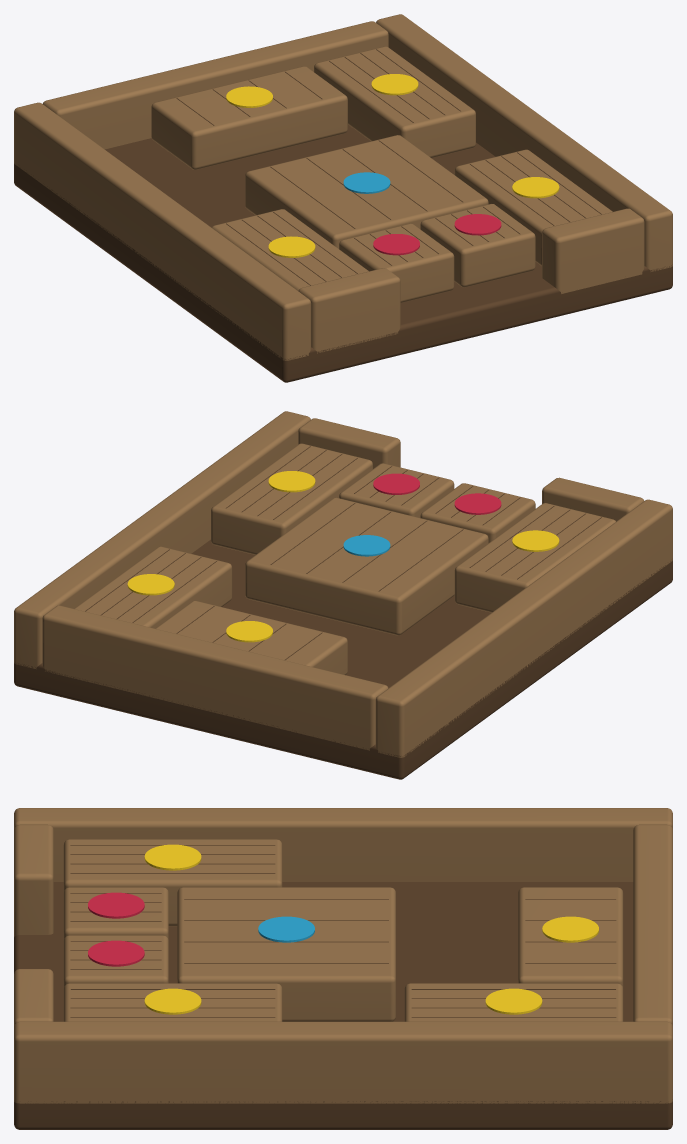
File: photo-cupboard-beginner-seven-c01.glb
The picture shows the model from 3 angles, top to bottom: view 1: azimuth 30°, elevation 25°; view 2: azimuth 150°, elevation 25°; view 3: azimuth 270°, elevation 25°; orthographic projection. The views are drawn at different scales.
Visible parts, largest first — view 1: tray, frame_left, blue_wood, frame_right, yellow5_wood, frame_top, yellow2_wood, exit_edge.001, yellow4_wood, exit_edge, red4_wood, yellow3_wood (+8 smaller); view 2: tray, frame_top, frame_left, blue_wood, frame_right, yellow4_wood, yellow3_wood, yellow2_wood, yellow5_wood, red3_wood, red4_wood, exit_edge.001 (+8 smaller); view 3: frame_right, tray, frame_left, blue_wood, yellow3_wood, yellow5_wood, frame_top, yellow2_wood, yellow4_wood, exit_edge, red3_wood, red4_wood (+8 smaller).
Part boxes in pixels (<box>): tray: <box>14,124,672,382</box>; frame_left: <box>14,102,311,360</box>; blue_wood: <box>245,135,488,248</box>; frame_right: <box>376,14,672,271</box>; yellow5_wood: <box>151,66,347,169</box>; frame_top: <box>43,21,388,149</box>; yellow2_wood: <box>314,46,475,157</box>; exit_edge.001: <box>542,208,644,293</box>; yellow4_wood: <box>454,149,612,265</box>; exit_edge: <box>298,268,400,353</box>; red4_wood: <box>420,204,535,287</box>; yellow3_wood: <box>211,209,368,291</box>; tray: <box>14,539,672,779</box>; frame_top: <box>42,605,388,750</box>; frame_left: <box>375,499,672,757</box>; blue_wood: <box>245,497,488,635</box>; frame_right: <box>14,411,310,669</box>; yellow4_wood: <box>211,443,372,554</box>; yellow3_wood: <box>454,503,615,612</box>; yellow2_wood: <box>74,546,232,628</box>; yellow5_wood: <box>155,601,347,674</box>; red3_wood: <box>420,483,535,542</box>; red4_wood: <box>339,463,454,517</box>; exit_edge.001: <box>298,418,400,468</box>; frame_right: <box>14,1021,672,1103</box>; tray: <box>14,882,672,1129</box>; frame_left: <box>14,808,672,881</box>; blue_wood: <box>177,887,395,1021</box>; yellow3_wood: <box>63,839,282,926</box>; yellow5_wood: <box>518,887,623,988</box>; frame_top: <box>633,824,672,1026</box>; yellow2_wood: <box>404,983,623,1021</box>; yellow4_wood: <box>63,983,282,1021</box>; exit_edge: <box>14,824,53,936</box>; red3_wood: <box>63,887,168,940</box>; red4_wood: <box>63,935,168,988</box>.
Bounding box in the file's own units: 0.192 × 0.037 × 0.232.
